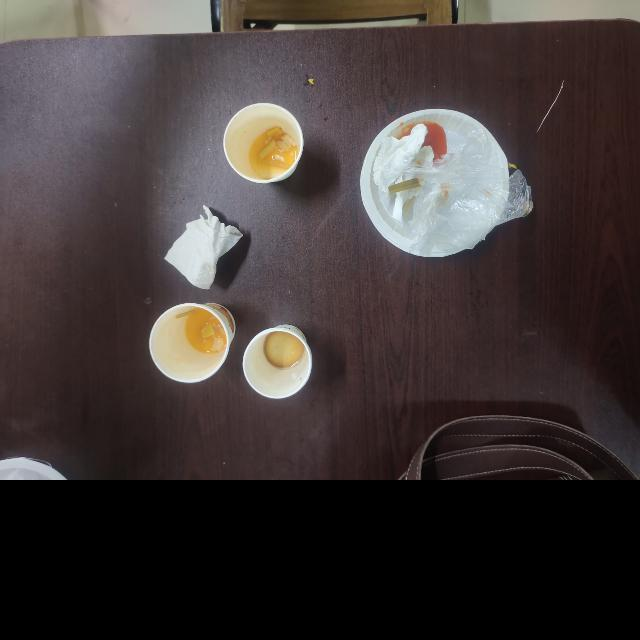kitchen paper: (367, 119, 441, 216), (167, 211, 246, 289)
